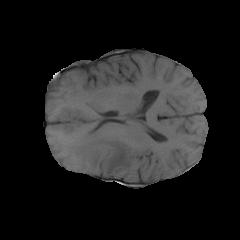glioma: (72, 129, 133, 175)
